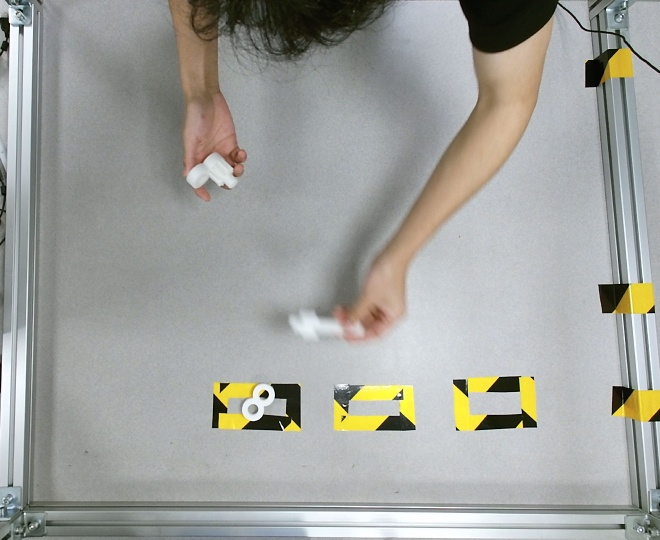stage_2: (187, 153, 238, 189)
